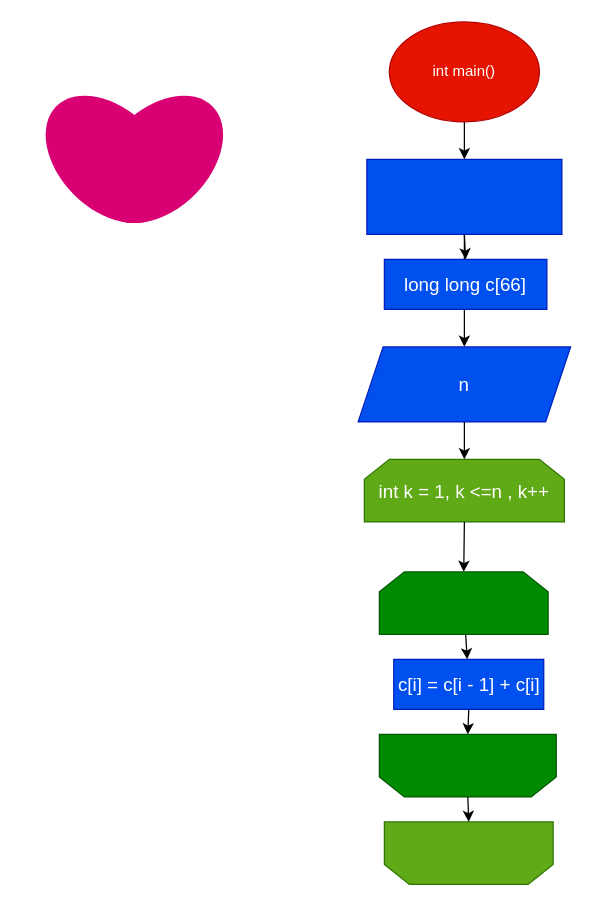
The diagram is 594 pixels wide and 906 high, and some of its shapes have lost their labels. Each missing label, with the centre of its shape:
"int i = k, i >= 1, i--" goes at (x=463, y=602).
"long long n = 1, i = 1, k = 1" goes at (x=464, y=196).
